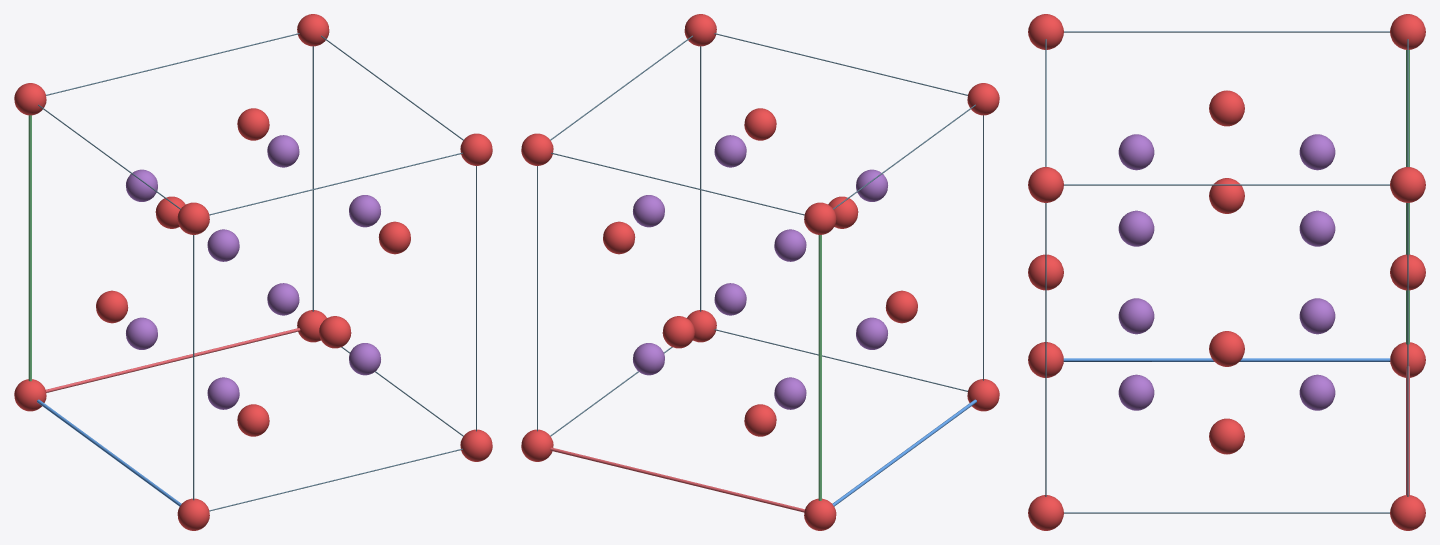
File: chat-potassium-oxide.glb
3 views of the same model, side by side, from view 1: azimuth 30°, elevation 25°; view 2: azimuth 150°, elevation 25°; view 3: azimuth 270°, elevation 25° (orthographic). The views are drawn at different scales.
Parts seen in each view (by area): view 1: O · O · 1 (×14), K · K · 1 (×8), Ô mạng và các trục a, b, c; view 2: O · O · 1 (×14), K · K · 1 (×8), Ô mạng và các trục a, b, c; view 3: O · O · 1 (×14), K · K · 1 (×8), Ô mạng và các trục a, b, c.
Part boxes in pixels (x1,y1,x2,y2): O · O · 1 (×14): (14,14,492,530); K · K · 1 (×8): (126,135,380,409); Ô mạng và các trục a, b, c: (28,33,476,511); O · O · 1 (×14): (521,14,999,530); K · K · 1 (×8): (633,135,887,409); Ô mạng và các trục a, b, c: (537,33,983,512); O · O · 1 (×14): (1028,14,1425,530); K · K · 1 (×8): (1118,134,1335,410); Ô mạng và các trục a, b, c: (1045,31,1409,513).
Bounding box in the file's own units: 7.08 × 7.08 × 7.08.
